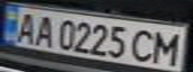0: (54, 17, 78, 52)
2: (90, 20, 112, 57), (72, 19, 93, 55)
5: (106, 24, 133, 60)
A: (9, 10, 39, 45), (30, 14, 57, 47)
C: (127, 27, 160, 63)
M: (148, 28, 187, 65)
